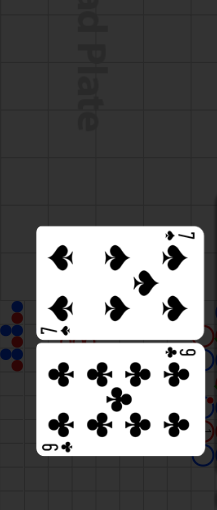7S: (39, 324, 72, 337)
9C: (41, 439, 75, 453)
